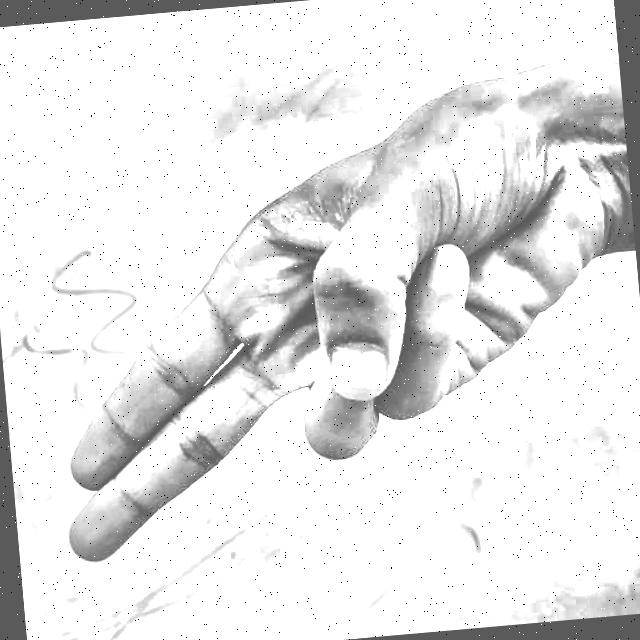Ha: (18, 48, 640, 625)
